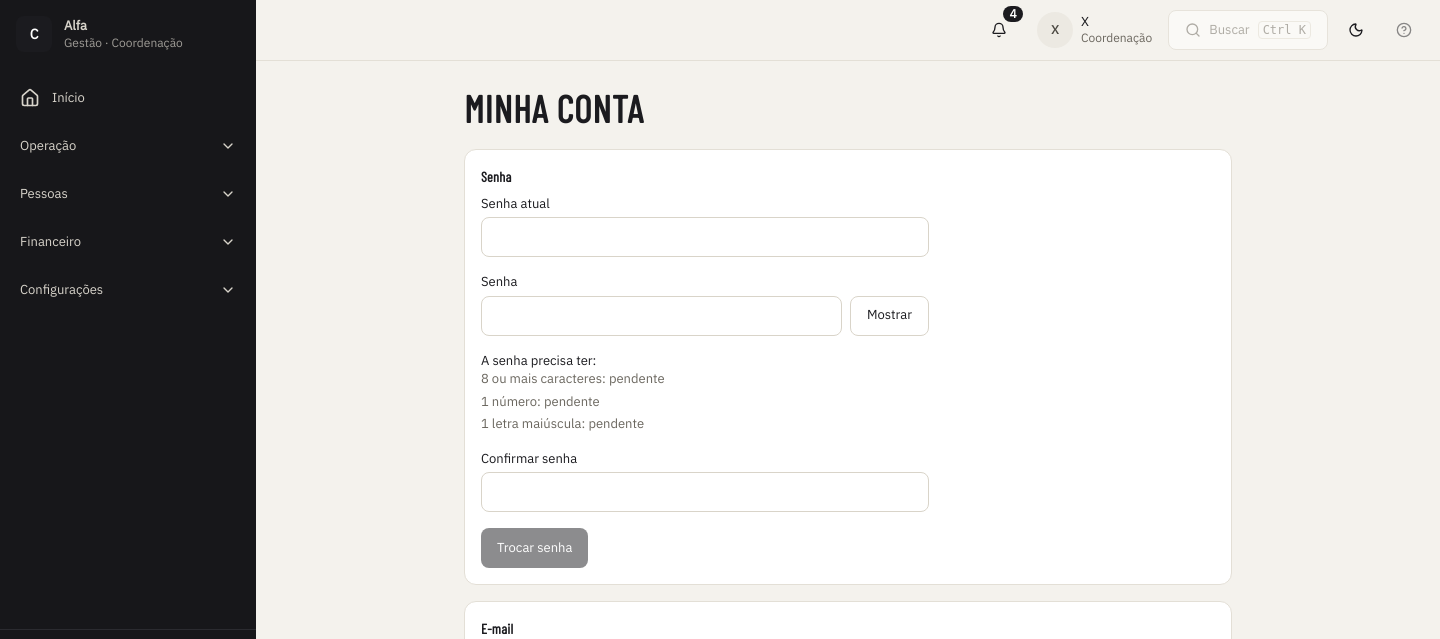
AccountPage: senha (CA1, CA2) › mostra o erro no campo com a senha atual errada e, com a certa, confirma e deixa só a sessão atual
Check: the button "Trocar senha" is disabled, box [481,528,588,568]
Type "errada" into the password field labelled "Senha atual". click: (705, 237)
box: [481,217,929,257]
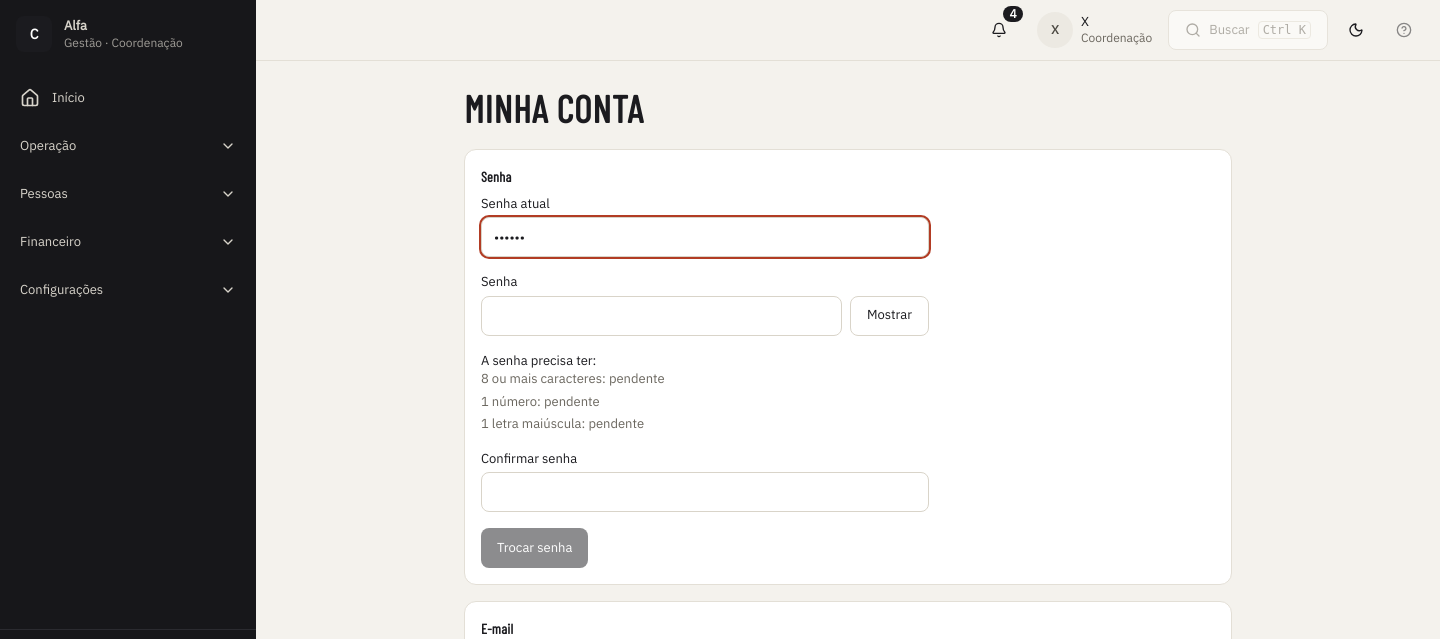
Type "NovaSenha123" into the password field labelled "Senha". click: (661, 316)
box: [481,296,842,336]
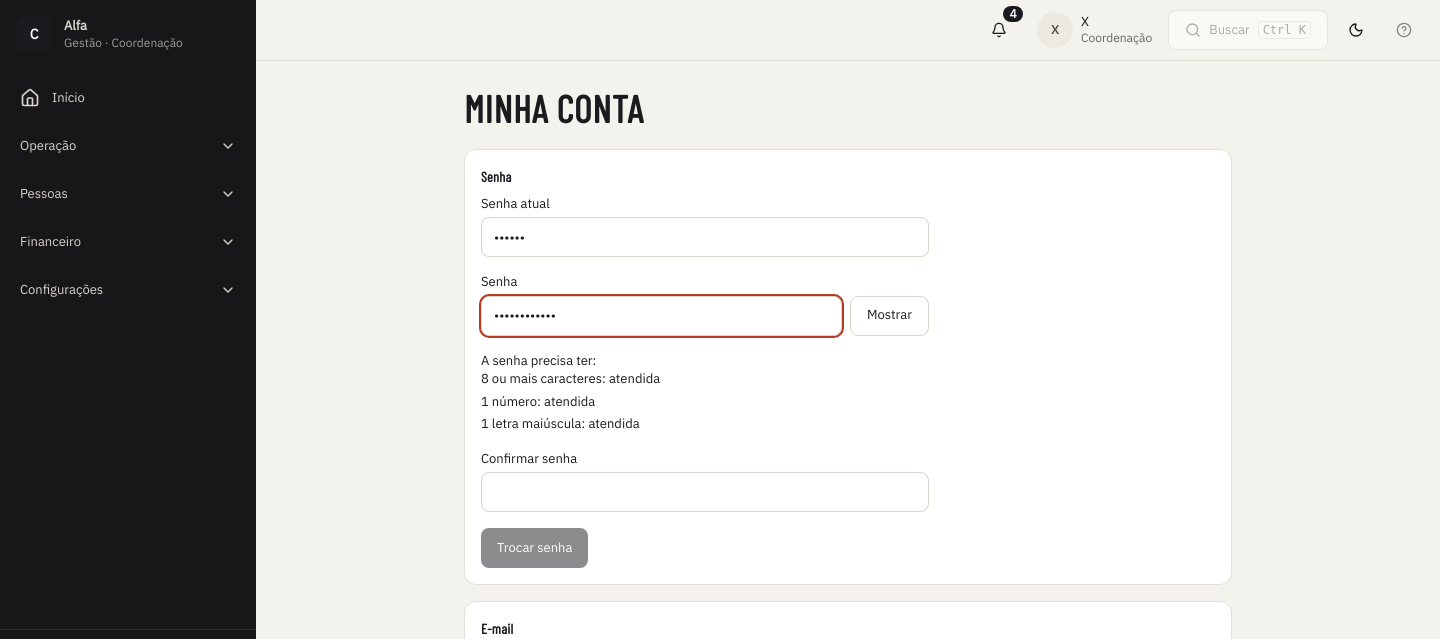
Type "NovaSenha123" into the password field labelled "Confirmar senha". click: (705, 492)
box: [481,472,929,512]
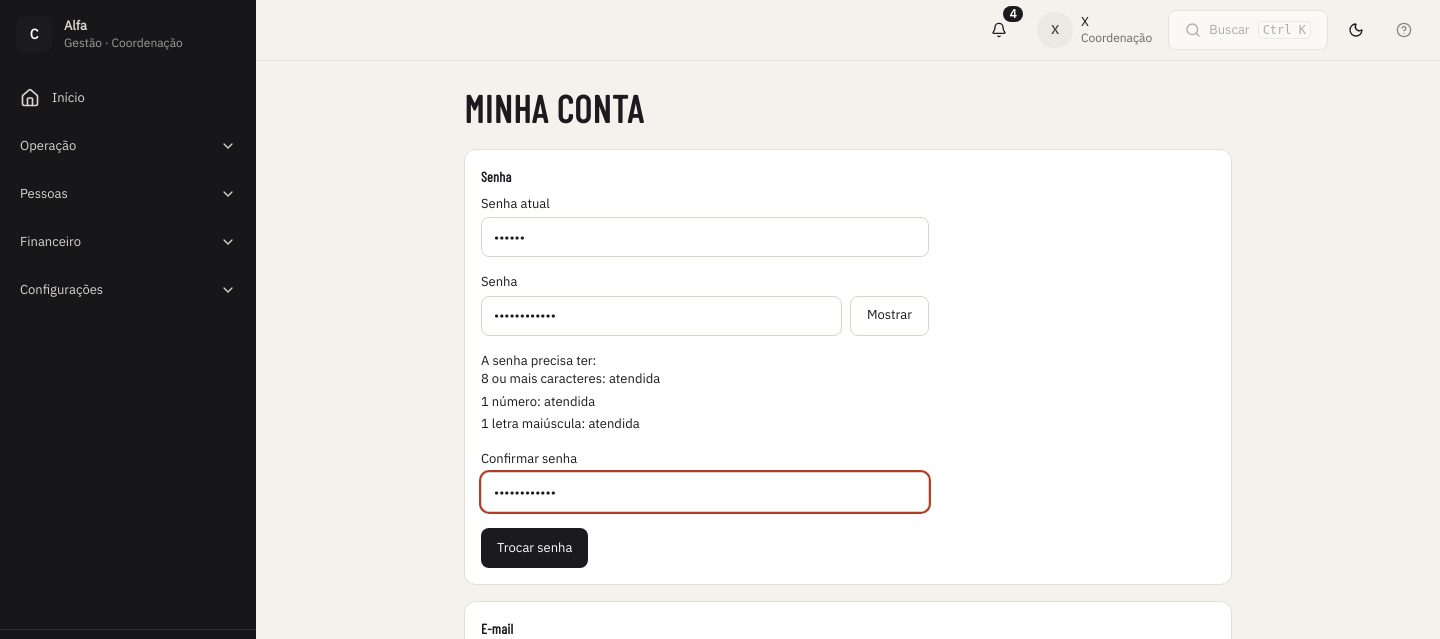
Click the button "Trocar senha". click: (535, 548)
box: [481,528,588,568]
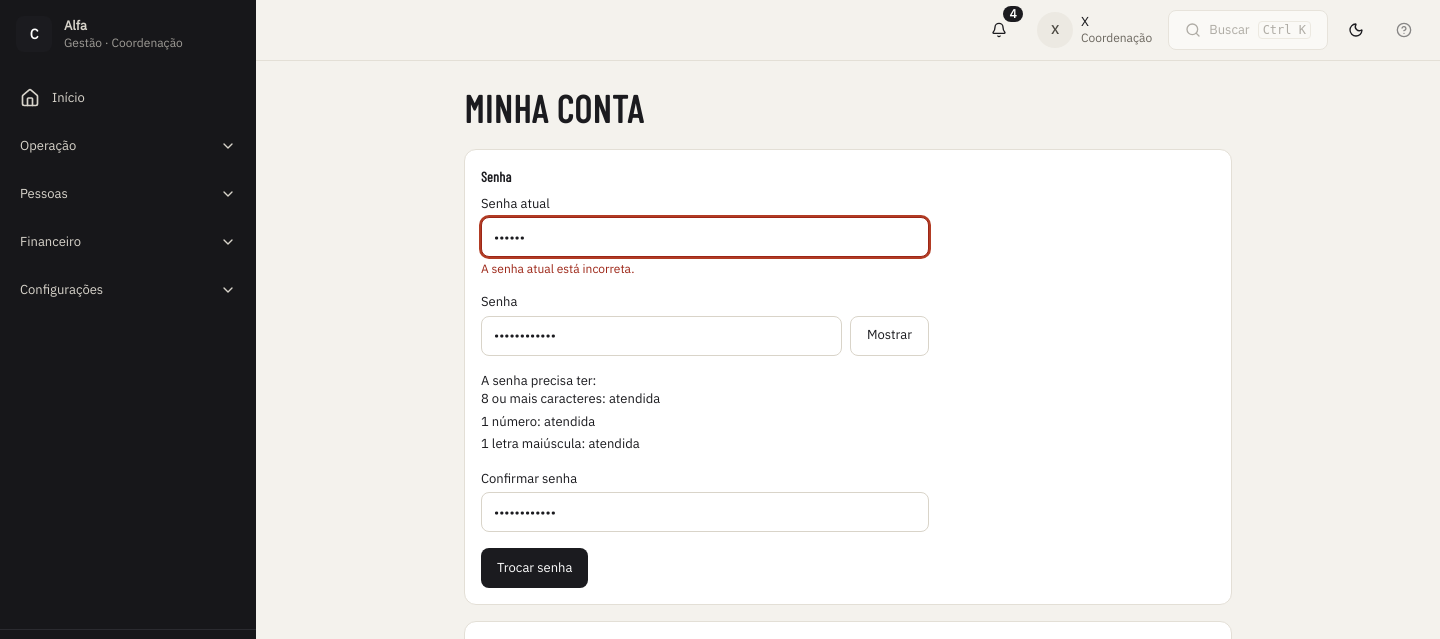
Check: the text "A senha atual está incorreta." is shown, box [481,261,634,276]
Type "Atual12345" into the password field labelled "Senha atual". click: (705, 237)
box: [481,217,929,257]
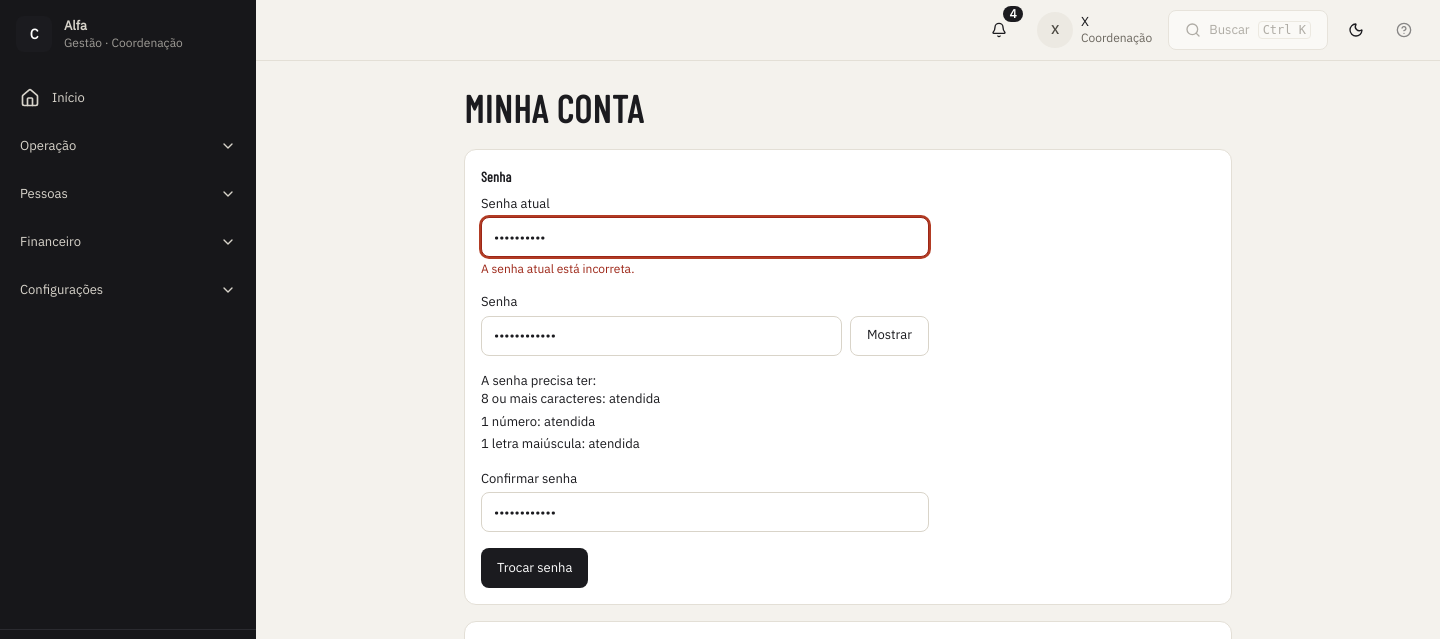
Click the button "Trocar senha". click: (535, 568)
box: [481,548,588,588]
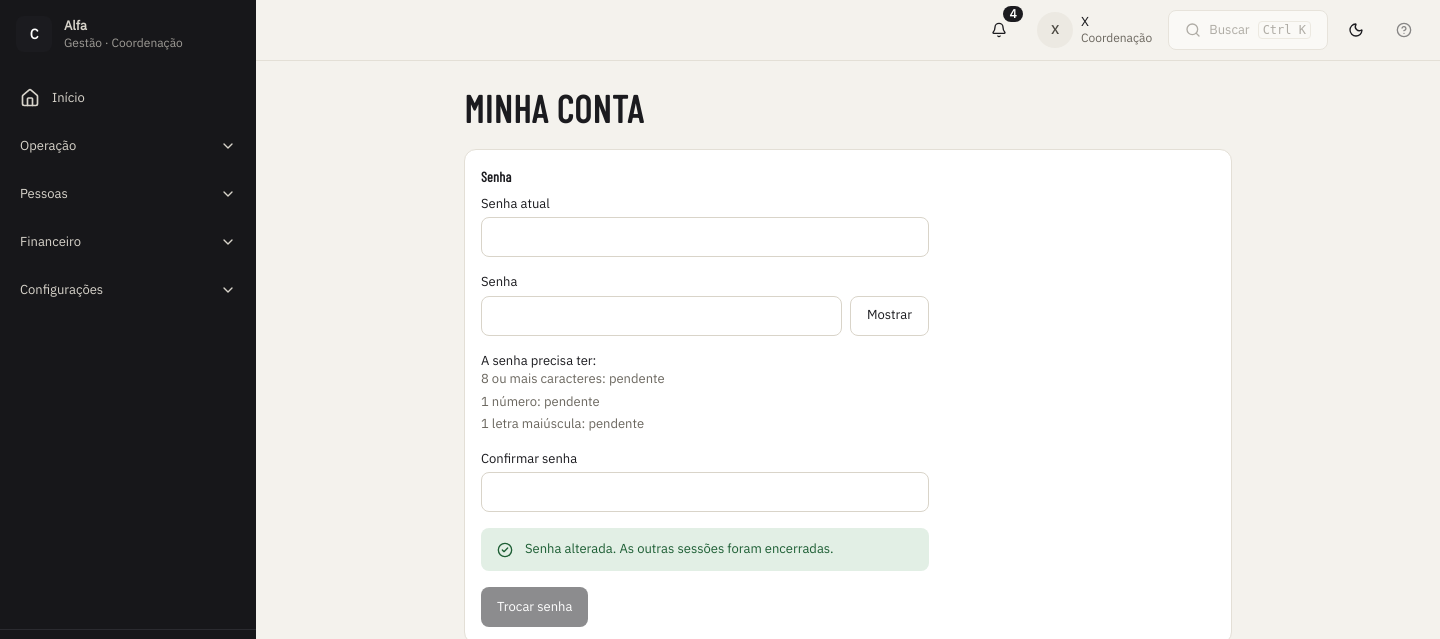
Check: the text "Senha alterada. As outras sessões foram encerradas." is shown, box [525,540,834,559]
